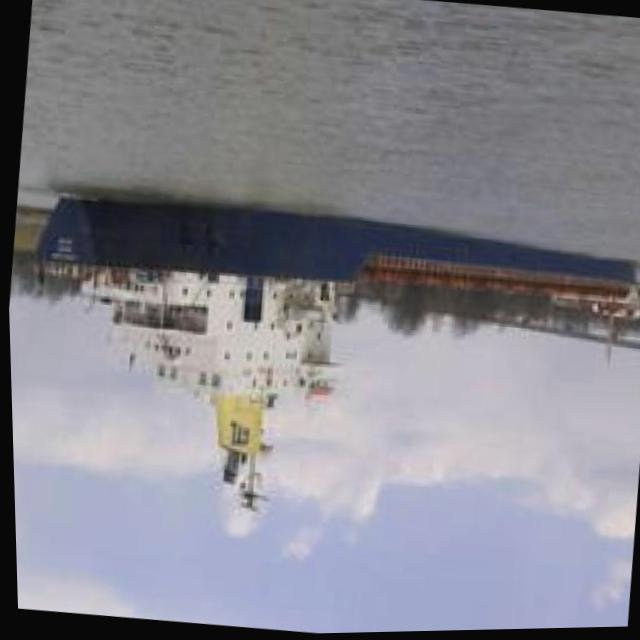ship2: (34, 194, 640, 534)
